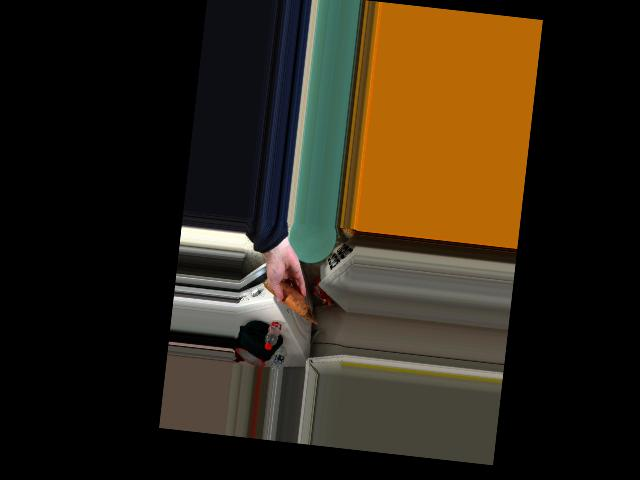sweet_potato: (263, 272, 302, 308)
